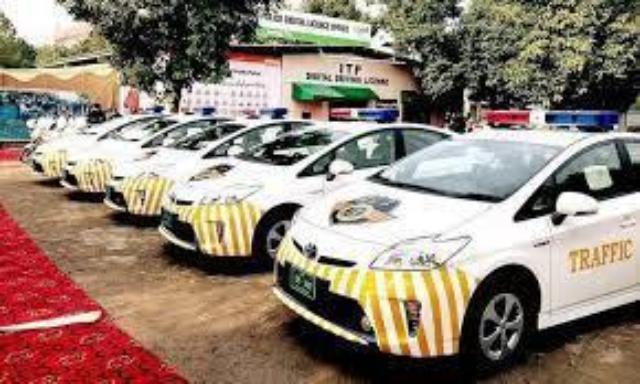police_car: (274, 110, 640, 384), (170, 106, 395, 245)
